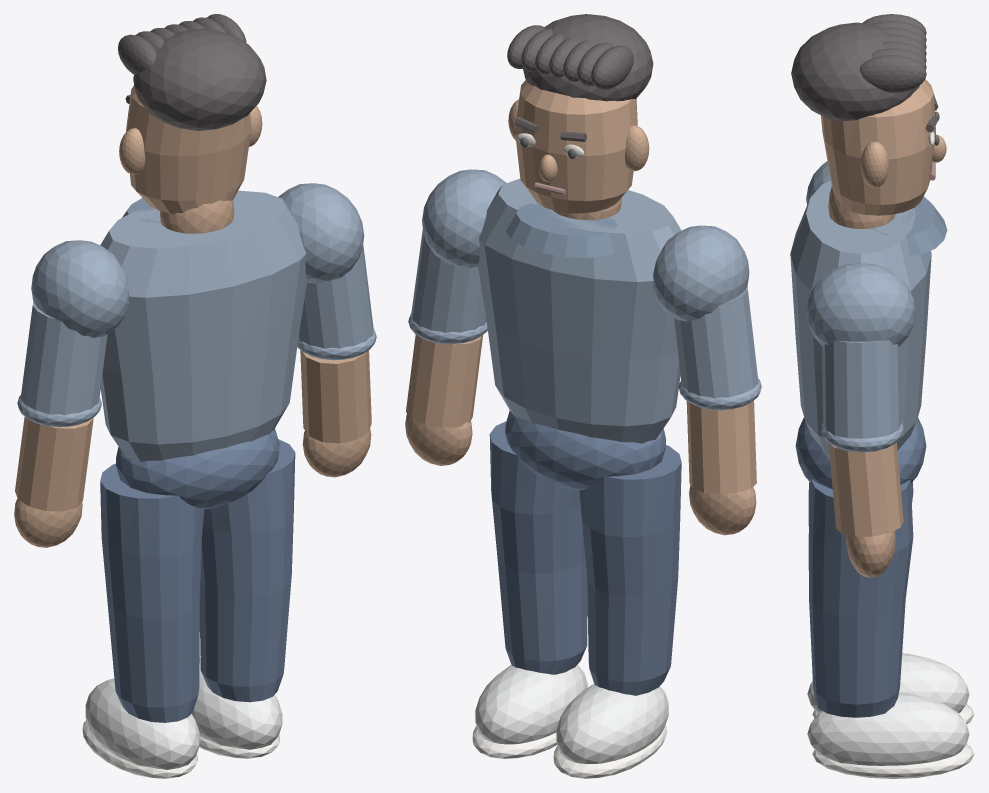
Rendered from sport_male.glb.
3 renders of one model, left to right at view 1: azimuth 30°, elevation 25°; view 2: azimuth 150°, elevation 25°; view 3: azimuth 270°, elevation 25°, orthographic.
Parts seen in each view (by area): view 1: Body_Torso_002, LL_Pant_034, RL_Pant_039, Body_HairCap_016, Body_Face_005, LA_Shoulder_024, Body_Pelvis_003, LA_Sleeve_025, LA_Forearm_027, LL_Sneaker_035, RA_Forearm_032, RA_Shoulder_029 (+11 smaller); view 2: Body_Torso_002, LL_Pant_034, RL_Pant_039, Body_Face_005, LA_Shoulder_024, Body_Pelvis_003, LL_Sneaker_035, LA_Sleeve_025, RL_Sneaker_040, LA_Forearm_027, RA_Forearm_032, RA_Shoulder_029 (+16 smaller); view 3: RL_Pant_039, Body_Torso_002, Body_Face_005, RL_Sneaker_040, Body_HairCap_016, RA_Sleeve_030, RA_Shoulder_029, RA_Forearm_032, LL_Sneaker_035, Body_Pelvis_003, RL_Sole_041, Body_HairStrand_023 (+9 smaller).
Boxes of the visible parts, box(x1,y1,x2,y2) form: Body_Torso_002: box(100, 190, 307, 461); LL_Pant_034: box(100, 463, 204, 722); RL_Pant_039: box(200, 439, 295, 702); Body_HairCap_016: box(133, 29, 266, 130); Body_Face_005: box(126, 85, 250, 214); LA_Shoulder_024: box(31, 240, 129, 338); Body_Pelvis_003: box(116, 428, 279, 509); LA_Sleeve_025: box(20, 302, 107, 415); LA_Forearm_027: box(15, 417, 93, 511); LL_Sneaker_035: box(85, 678, 199, 769); RA_Forearm_032: box(300, 350, 371, 443); RA_Shoulder_029: box(278, 183, 364, 283); Body_Torso_002: box(478, 178, 681, 443); LL_Pant_034: box(579, 445, 681, 695); RL_Pant_039: box(489, 421, 587, 674); Body_Face_005: box(515, 80, 637, 213); LA_Shoulder_024: box(653, 225, 749, 321); Body_Pelvis_003: box(505, 410, 665, 490); LL_Sneaker_035: box(556, 684, 668, 764); LA_Sleeve_025: box(674, 286, 758, 398); RL_Sneaker_040: box(475, 665, 587, 744); LA_Forearm_027: box(686, 400, 756, 494); RA_Forearm_032: box(406, 334, 482, 427); RA_Shoulder_029: box(422, 169, 506, 267); RL_Pant_039: box(808, 479, 913, 717); Body_Torso_002: box(790, 180, 931, 453); Body_Face_005: box(821, 79, 935, 215); RL_Sneaker_040: box(807, 693, 969, 765); Body_HairCap_016: box(791, 22, 919, 120); RA_Sleeve_030: box(822, 340, 901, 438); RA_Shoulder_029: box(806, 263, 915, 346); RA_Forearm_032: box(828, 443, 903, 536); LL_Sneaker_035: box(807, 653, 969, 713); Body_Pelvis_003: box(795, 417, 926, 489); RL_Sole_041: box(812, 744, 974, 778); Body_HairStrand_023: box(859, 55, 926, 92).
Bounding box in the file's own units: 1.54 × 3.03 × 0.704.
